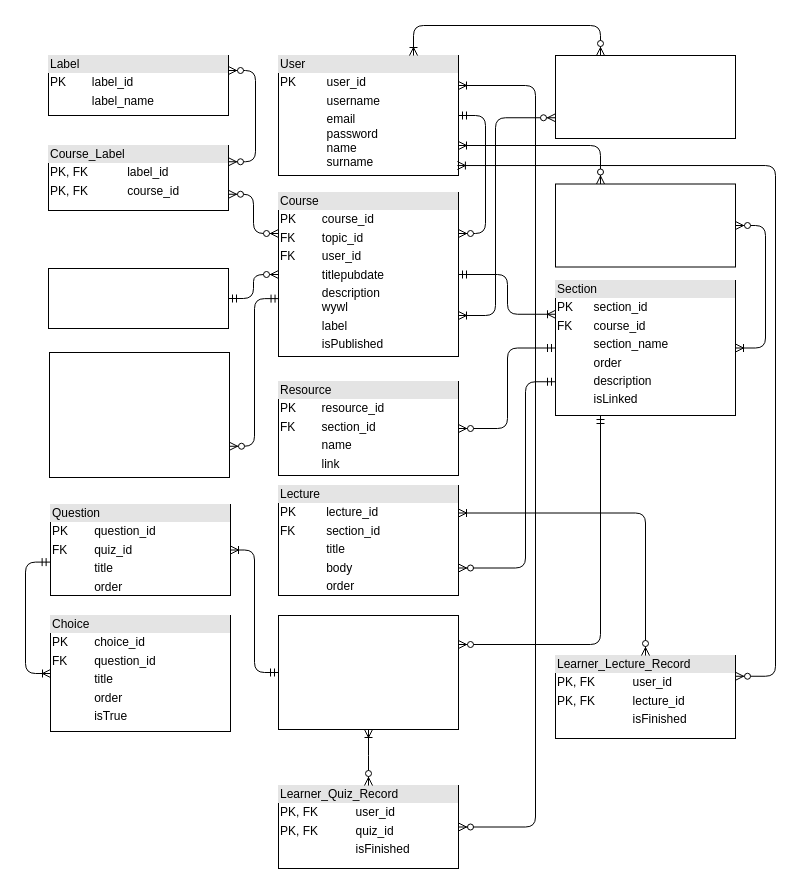
The diagram is 802 pixels wide and 886 high, and some of its shapes have lost their labels. Here are the shapes that lost their labels. From the top down, the centre of each, then its label:
(x=645, y=96): Learner_Course_Record PK, FK user_id PK, FK course_id isFinished
(x=645, y=225): Learner_Section_Record PK, FK user_id PK, FK section_id isFinished
(x=138, y=298): Topic PK topic_id title
(x=139, y=415): Glossary PK glossary_id FK course_id name description image_url url
(x=368, y=672): Quiz PK quiz_id FK section_id title order succesrate
